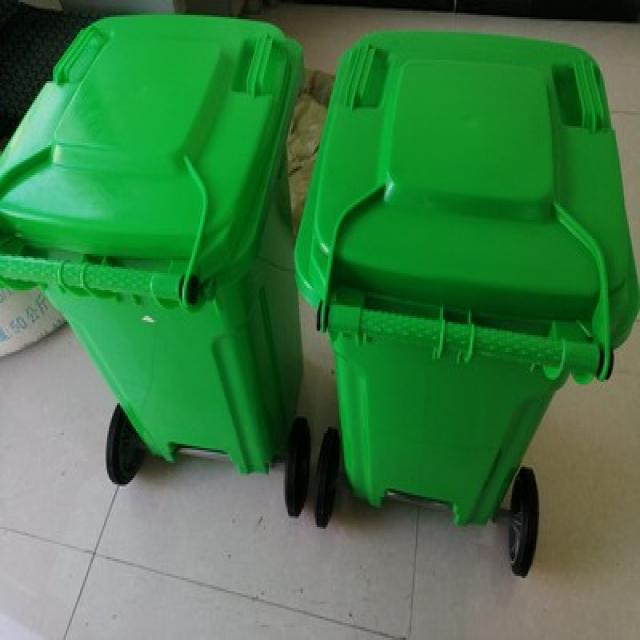ash bin: (290, 26, 635, 578), (8, 13, 314, 518)
